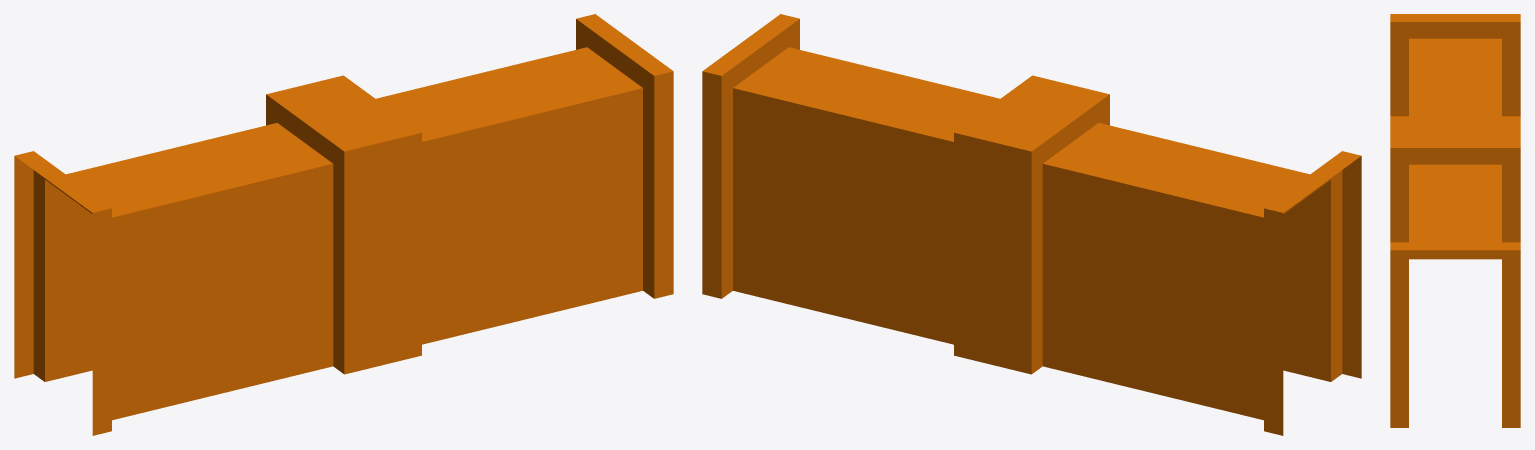
Rendered from straightWall.fbx.
The picture shows the model from 3 angles, left to right: view 1: azimuth 30°, elevation 25°; view 2: azimuth 150°, elevation 25°; view 3: azimuth 270°, elevation 25°; orthographic projection. The views are drawn at different scales.
Visible parts, largest first — view 1: StraighWall; view 2: StraighWall; view 3: StraighWall.
Boxes of the visible parts, bbox=[...] form: StraighWall: bbox=[14, 14, 673, 435]; StraighWall: bbox=[702, 14, 1361, 435]; StraighWall: bbox=[1390, 14, 1520, 427].
Bounding box in the file's own units: 30 × 11 × 7.
